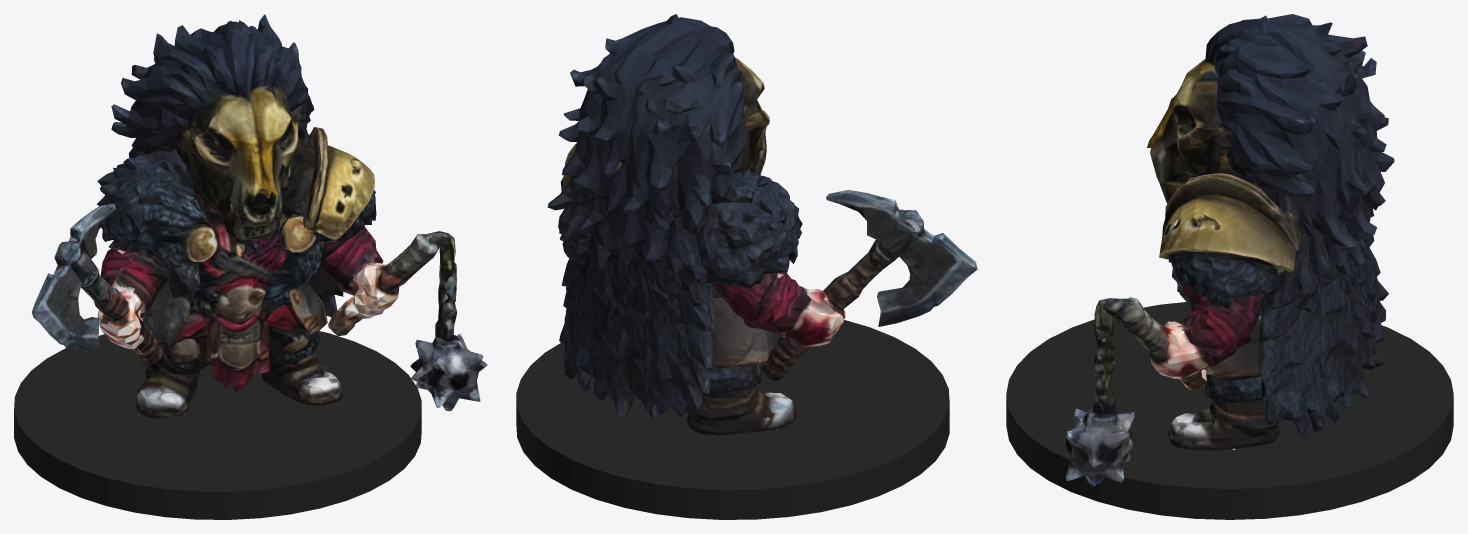
File: bok-claws-packlord.glb
3 views of the same model, side by side, from view 1: azimuth 30°, elevation 25°; view 2: azimuth 150°, elevation 25°; view 3: azimuth 270°, elevation 25° (orthographic). The views are drawn at different scales.
Visible parts, largest first — view 1: figure, base; view 2: figure, base; view 3: figure, base.
Boxes of the visible parts, bbox=[...] form: figure: bbox=[31, 14, 487, 419]; base: bbox=[14, 331, 421, 519]; figure: bbox=[547, 14, 977, 435]; base: bbox=[516, 320, 949, 519]; figure: bbox=[1065, 14, 1394, 486]; base: bbox=[1006, 302, 1453, 519].
Size of the model in its own units: 1.85 by 1.67 by 1.57.
Materials: 2 (1 with a texture image).
